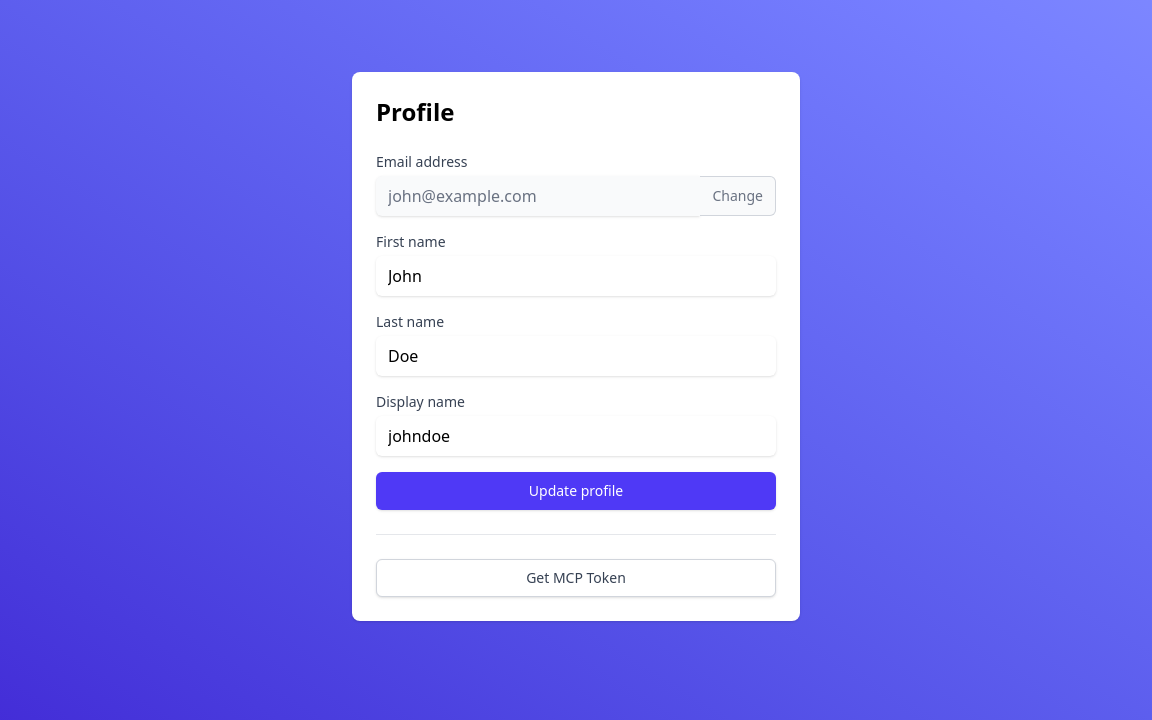
Test case: Profile Component › allows optional first and last name fields to be empty
Clear the field labelled "First name": (576, 276) [376,256,776,296]
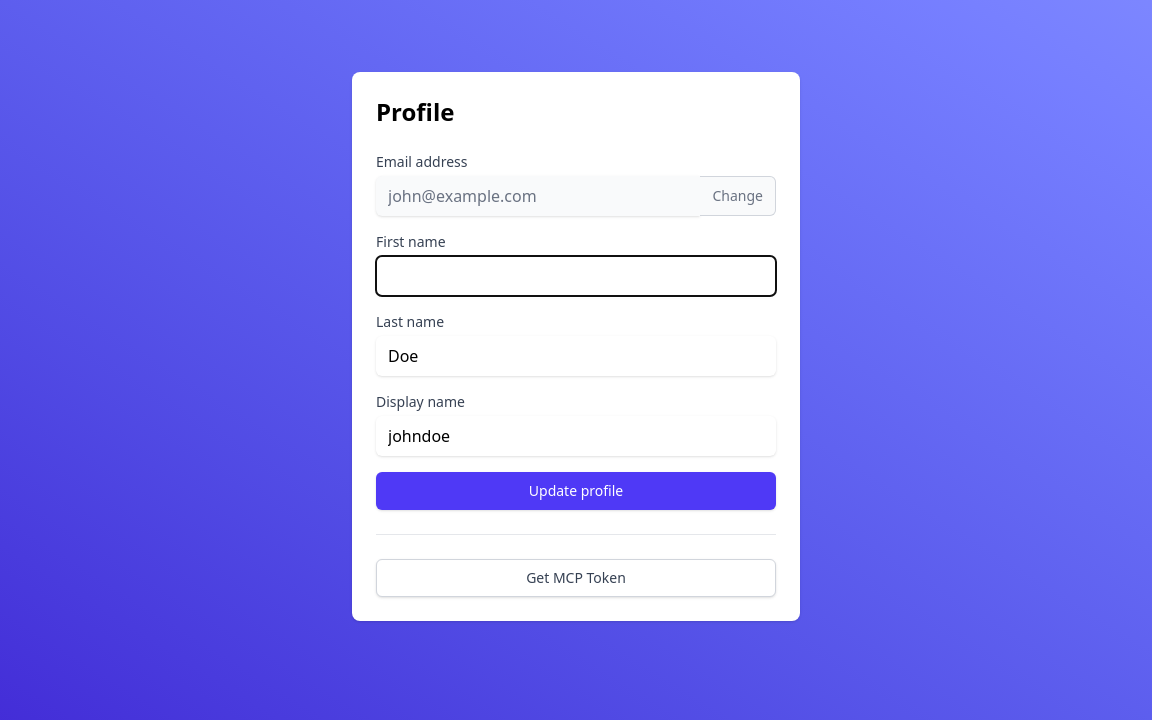
Clear the field labelled "Last name": (576, 356) [376,336,776,376]
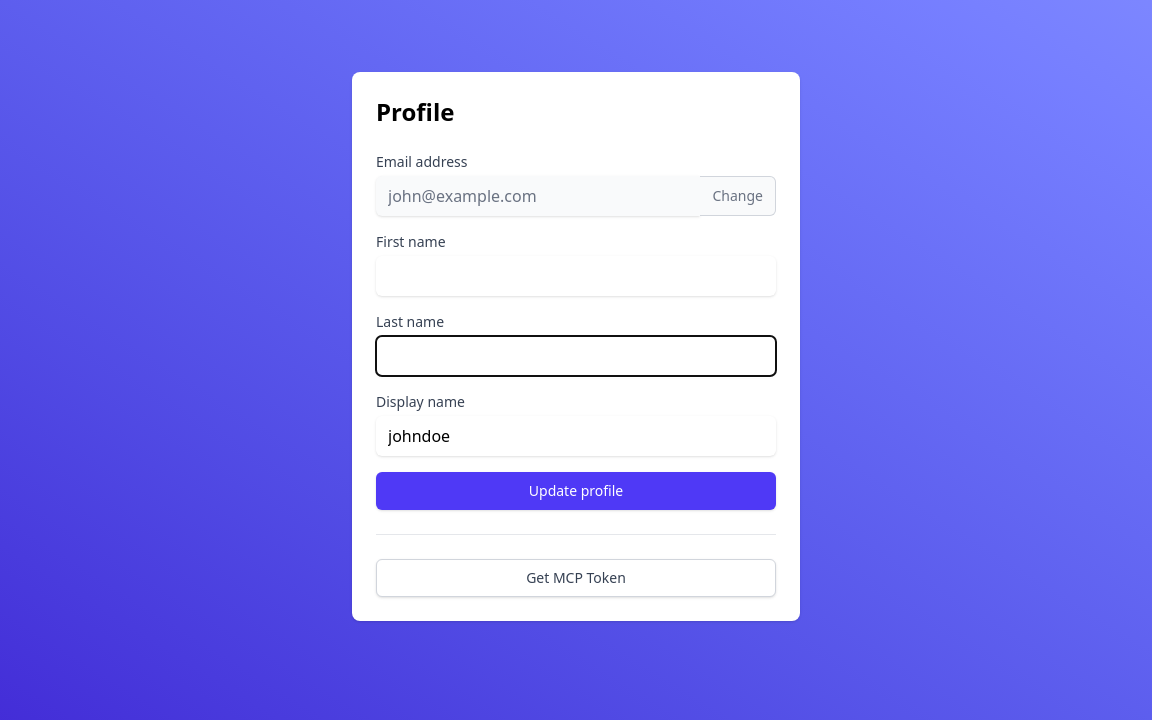
Click the button "Update profile": (576, 491) [376,472,776,510]
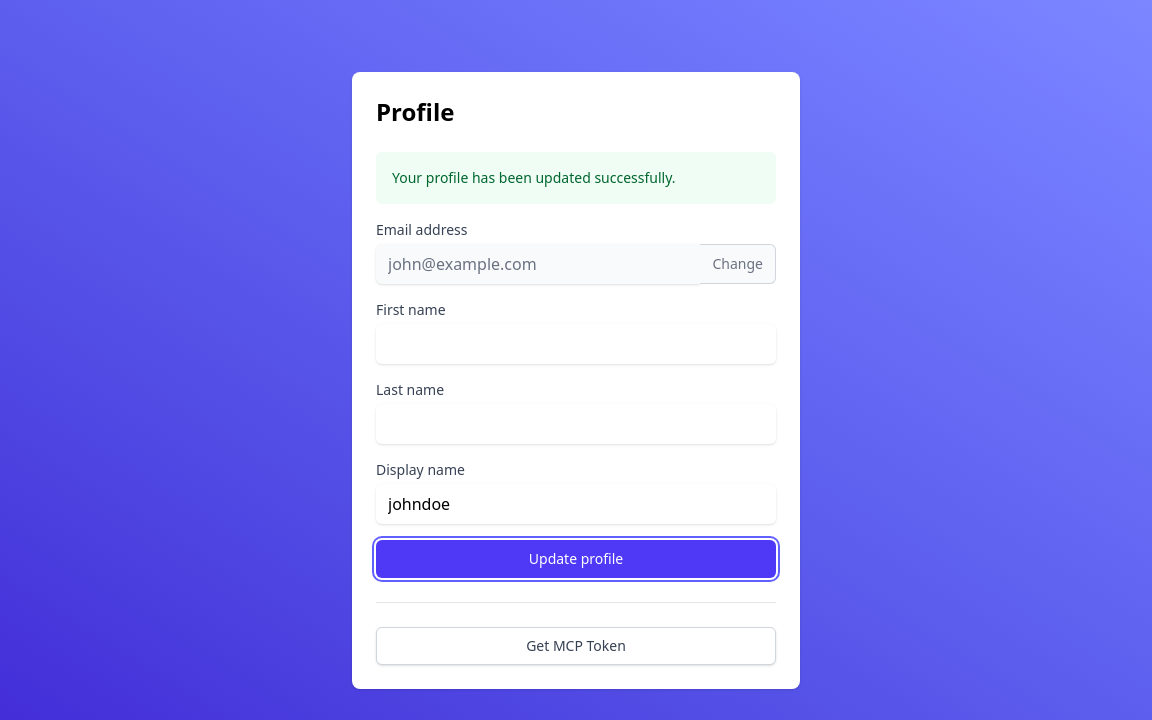
expect the text "Your profile has been updated successfully." is shown: met, box [392,168,676,187]
